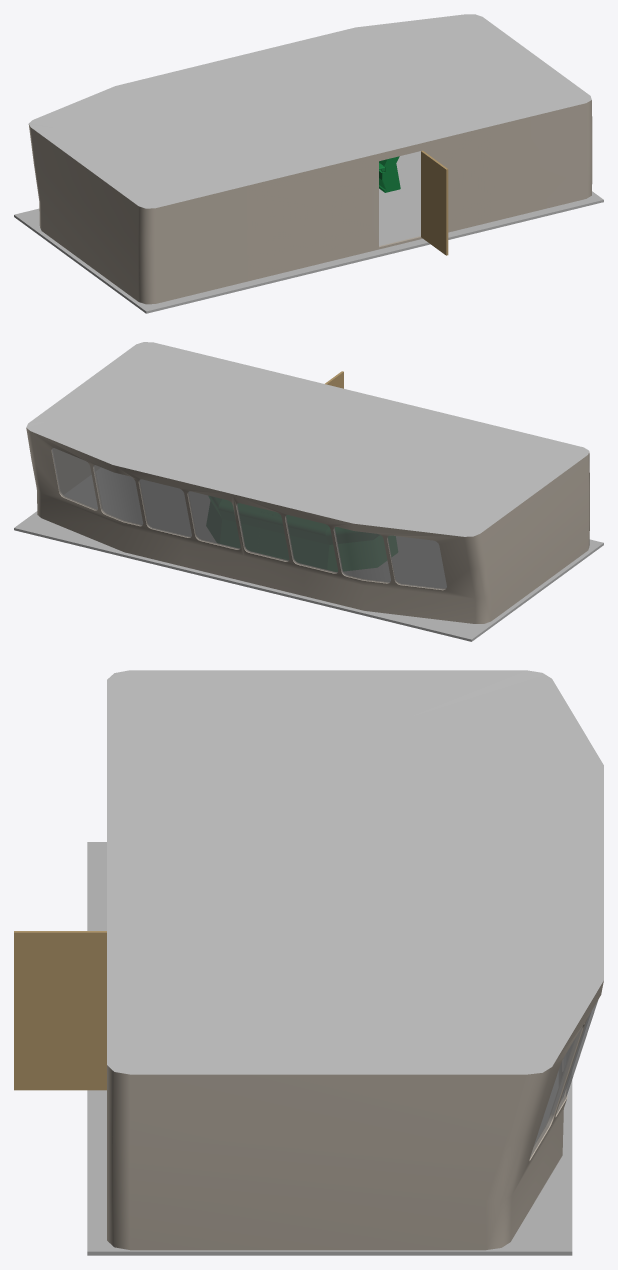
Rendered from CommandBridge.fbx.
3 renders of one model, top to bottom at view 1: azimuth 30°, elevation 25°; view 2: azimuth 150°, elevation 25°; view 3: azimuth 270°, elevation 25°, orthographic. The views are drawn at different scales.
Parts seen in each view (by area): view 1: command_bridge, floor, door, console_ends; view 2: command_bridge, windows1, floor, console_base, main_console_back_panel; view 3: command_bridge, door, floor, windows1.
Boxes of the visible parts, box(x1,y1,x2,y2) form: command_bridge: box(28, 14, 592, 304); floor: box(14, 151, 603, 313); door: box(421, 150, 448, 255); console_ends: box(382, 156, 400, 192); command_bridge: box(26, 342, 589, 623); windows1: box(51, 448, 446, 589); floor: box(14, 468, 603, 641); console_base: box(206, 496, 397, 571); main_console_back_panel: box(257, 521, 290, 559); command_bridge: box(107, 670, 603, 1250); door: box(14, 931, 106, 1090); floor: box(87, 842, 572, 1255); windows1: box(530, 1000, 598, 1157).
Size of the model in its own units: 1175 by 241 by 716.
